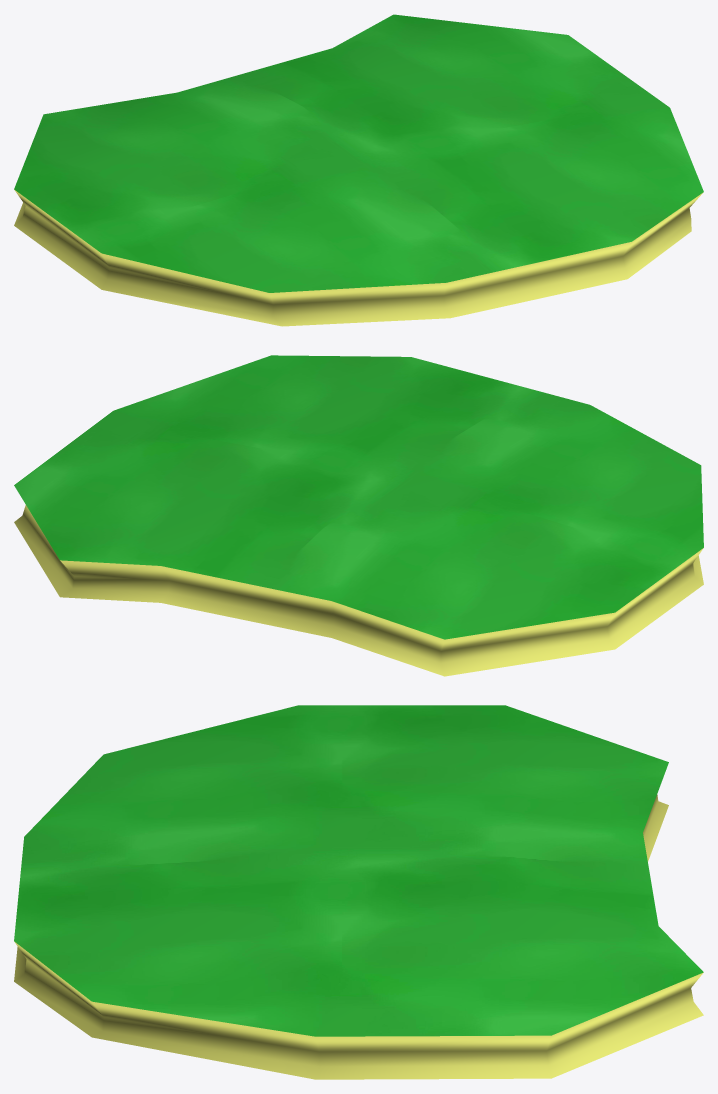
File: testIsland.fbx
The picture shows the model from 3 angles, top to bottom: view 1: azimuth 30°, elevation 25°; view 2: azimuth 150°, elevation 25°; view 3: azimuth 270°, elevation 25°; orthographic projection. The views are drawn at different scales.
Parts seen in each view (by area): view 1: pCube1; view 2: pCube1; view 3: pCube1.
Part boxes in pixels (x1,y1,x2,y2): pCube1: (14,14,703,326); pCube1: (14,355,703,676); pCube1: (14,705,703,1079).
Size of the model in its own units: 93.63 by 7.61 by 82.38.
